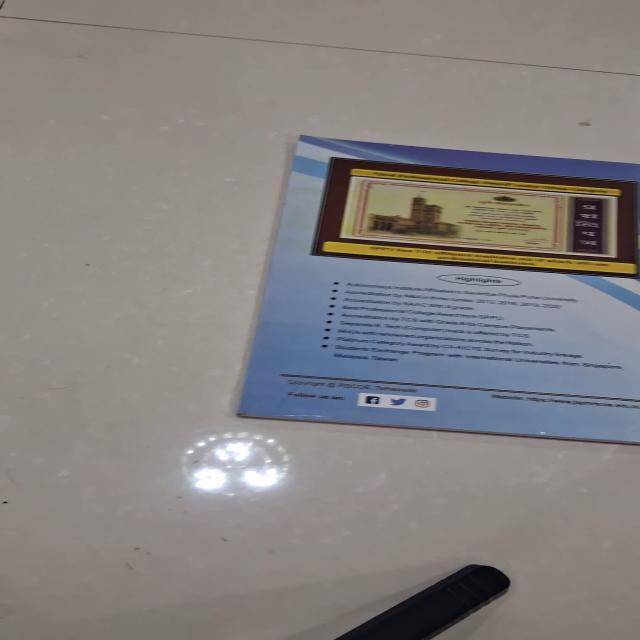paper: (234, 134, 639, 444)
